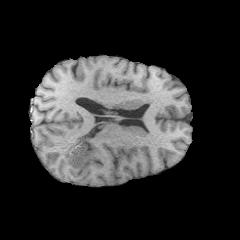glioma: (60, 134, 96, 170)
